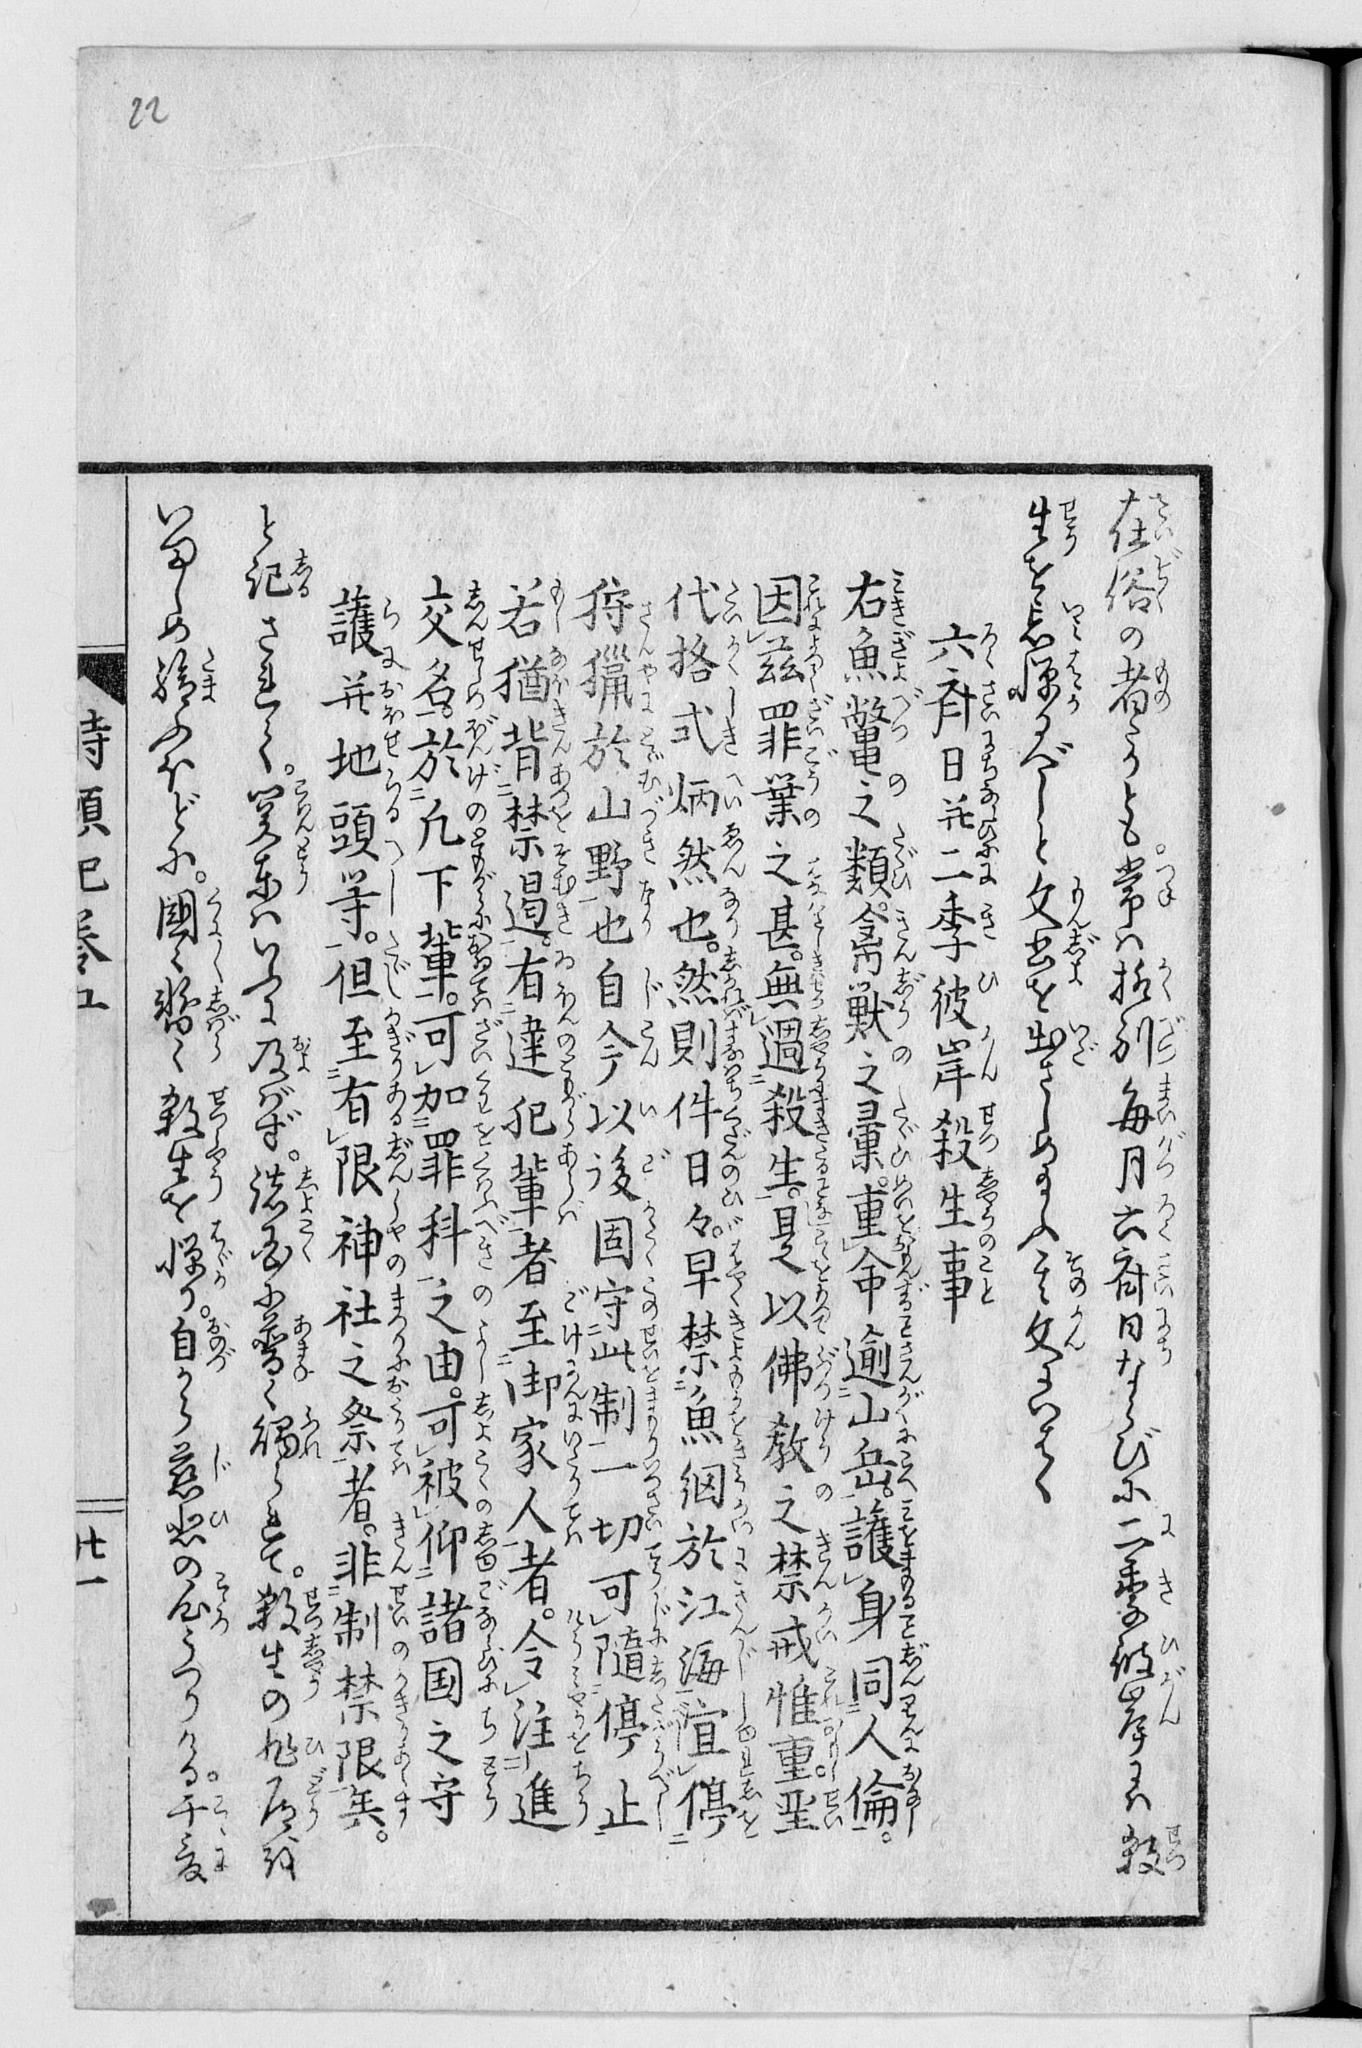MainZone-Character: (149, 974, 249, 1073), (413, 919, 499, 1012), (407, 716, 503, 798), (415, 1752, 505, 1837), (754, 744, 838, 836), (325, 583, 410, 672), (150, 884, 236, 972), (679, 1689, 765, 1776), (420, 1120, 502, 1208), (673, 1773, 768, 1847), (755, 1202, 836, 1284), (506, 1139, 584, 1225), (838, 693, 926, 767), (845, 1092, 927, 1171), (673, 1086, 755, 1165), (578, 577, 661, 655), (327, 729, 410, 807), (1107, 548, 1190, 624), (331, 1437, 407, 1521), (667, 947, 752, 1021), (675, 1448, 757, 1524), (511, 1765, 596, 1838), (844, 1496, 930, 1568), (845, 971, 927, 1045), (409, 1319, 496, 1389), (845, 1764, 924, 1840), (573, 649, 663, 716), (844, 1571, 936, 1635), (410, 1582, 503, 1645), (511, 1606, 587, 1683), (581, 723, 667, 790), (845, 825, 921, 901), (331, 1199, 407, 1275), (328, 872, 406, 947), (330, 1588, 409, 1661), (325, 1275, 404, 1348), (836, 1431, 926, 1495), (415, 1203, 500, 1270), (582, 880, 658, 954), (497, 573, 573, 647), (669, 1012, 748, 1083), (509, 1284, 579, 1364), (503, 1015, 585, 1083), (333, 1664, 417, 1730), (587, 1199, 660, 1275), (417, 635, 489, 711), (769, 1528, 841, 1606), (331, 1133, 418, 1197), (754, 694, 833, 764), (157, 1222, 236, 1291), (593, 1694, 675, 1761), (509, 1691, 591, 1758), (842, 1317, 926, 1383), (319, 673, 413, 731), (596, 1762, 667, 1838), (847, 904, 924, 974), (673, 1313, 751, 1383), (334, 1516, 413, 1585), (1113, 1817, 1193, 1884), (936, 1235, 1003, 1316), (1023, 1009, 1105, 1074), (415, 855, 505, 915), (853, 1173, 929, 1243), (1011, 643, 1088, 711), (757, 1009, 835, 1077), (844, 1641, 938, 1697), (508, 1421, 587, 1487), (412, 796, 503, 854), (417, 1009, 503, 1070), (1022, 925, 1104, 989), (748, 568, 830, 632), (755, 1337, 838, 1401), (415, 1655, 511, 1709), (669, 694, 746, 761), (588, 1387, 666, 1454), (1020, 864, 1102, 927), (505, 1357, 587, 1419), (584, 1325, 667, 1386), (508, 947, 584, 1013), (239, 545, 322, 606), (845, 1694, 923, 1759), (854, 1244, 932, 1310), (413, 1452, 499, 1512), (328, 1732, 413, 1791), (337, 1007, 418, 1070), (932, 1100, 1003, 1170), (839, 626, 921, 687), (590, 1018, 658, 1091), (509, 871, 578, 943), (417, 571, 491, 638), (418, 1516, 502, 1576), (755, 1082, 835, 1144), (669, 883, 748, 945), (763, 1667, 844, 1727), (663, 567, 743, 627), (1107, 653, 1177, 723), (679, 1240, 752, 1307), (672, 819, 748, 883), (593, 1624, 670, 1686), (667, 1583, 755, 1638), (759, 1405, 838, 1466), (672, 1386, 751, 1446), (508, 1486, 587, 1547), (1020, 492, 1084, 567), (331, 1068, 409, 1129), (322, 956, 413, 1007), (415, 1278, 499, 1334), (415, 1395, 499, 1451), (149, 1083, 237, 1136), (935, 1027, 1006, 1092), (587, 1147, 667, 1205), (150, 647, 231, 705), (1107, 483, 1181, 545), (673, 761, 751, 820), (929, 895, 997, 962), (239, 837, 310, 901), (330, 804, 403, 866), (1111, 1070, 1186, 1130), (593, 1559, 667, 1620), (500, 1086, 585, 1139), (1105, 855, 1181, 915), (768, 1785, 844, 1844), (584, 831, 661, 889), (246, 770, 312, 839), (929, 966, 1000, 1029), (337, 1392, 409, 1454), (161, 1568, 233, 1630), (676, 1633, 762, 1685), (164, 1314, 240, 1372), (246, 1164, 324, 1220), (1110, 1633, 1193, 1685), (751, 635, 825, 693), (1111, 1132, 1187, 1188), (258, 1636, 327, 1699), (754, 1284, 836, 1335), (760, 950, 831, 1009), (844, 568, 917, 626), (768, 1609, 841, 1667), (1104, 1247, 1183, 1301), (264, 1770, 327, 1837), (1111, 1307, 1184, 1363), (927, 611, 1000, 667), (760, 898, 833, 954), (1105, 1191, 1184, 1243), (932, 839, 1006, 893), (246, 1405, 322, 1459), (426, 1711, 503, 1762), (927, 1176, 1000, 1231), (930, 672, 1003, 726), (670, 632, 743, 687), (768, 1732, 847, 1782), (936, 729, 1005, 787), (673, 1525, 757, 1572), (1108, 1013, 1184, 1065), (760, 842, 831, 896), (337, 1788, 409, 1843), (935, 789, 1012, 839), (754, 1147, 831, 1197), (246, 1580, 324, 1630), (590, 1500, 663, 1553), (413, 1076, 499, 1121), (252, 1319, 316, 1380), (1012, 597, 1091, 646), (1108, 953, 1178, 1007), (588, 1275, 664, 1325), (1113, 1685, 1186, 1737), (1022, 1308, 1094, 1360), (500, 647, 573, 699), (841, 1387, 926, 1431), (1032, 1249, 1096, 1307), (503, 700, 572, 754), (245, 1035, 319, 1083), (1105, 1562, 1187, 1606), (683, 1150, 746, 1206), (161, 1147, 230, 1199), (590, 962, 661, 1010), (246, 1225, 322, 1270), (850, 1044, 923, 1091), (848, 773, 918, 820), (584, 1097, 658, 1141), (772, 1484, 839, 1533), (163, 1439, 231, 1486), (505, 744, 575, 790), (339, 1348, 409, 1392), (163, 1504, 234, 1547), (175, 1844, 237, 1893), (508, 792, 576, 834), (587, 793, 664, 830), (590, 1457, 663, 1495), (1116, 1510, 1181, 1550), (258, 1727, 325, 1764), (511, 837, 578, 872), (167, 1790, 234, 1822)
MainZone-Ruby: (801, 744, 839, 830), (462, 919, 497, 1009), (462, 711, 500, 793), (886, 1091, 923, 1174), (716, 1004, 749, 1086), (208, 989, 245, 1064), (372, 594, 409, 665), (632, 725, 670, 790), (728, 1691, 760, 1768), (470, 1123, 502, 1200), (717, 1088, 749, 1164), (553, 1144, 581, 1232), (897, 1246, 930, 1316), (886, 971, 924, 1032), (888, 825, 920, 896), (552, 1010, 584, 1080), (1061, 930, 1101, 986), (971, 1237, 1002, 1310), (476, 1582, 509, 1647), (1151, 550, 1186, 612), (464, 799, 497, 863), (293, 1768, 327, 1832), (461, 638, 489, 711), (809, 1337, 842, 1399), (807, 1199, 833, 1279), (716, 690, 745, 761), (898, 1639, 936, 1692), (892, 1493, 921, 1563), (202, 1317, 237, 1375), (892, 904, 924, 966), (467, 858, 500, 918), (803, 570, 831, 638), (886, 687, 918, 747), (728, 1437, 751, 1522), (1053, 494, 1084, 556), (379, 874, 403, 951), (289, 1165, 322, 1222), (1154, 1129, 1189, 1182), (468, 1013, 503, 1067), (897, 1762, 923, 1834), (891, 1179, 920, 1243), (388, 1583, 410, 1664), (645, 1696, 672, 1762), (561, 1604, 585, 1679), (389, 1665, 415, 1735), (468, 1389, 499, 1448), (894, 1571, 923, 1633), (461, 571, 489, 634), (1060, 872, 1091, 928), (716, 948, 748, 1004), (1066, 1013, 1099, 1067), (379, 729, 403, 802), (379, 1136, 415, 1185), (205, 1222, 231, 1290), (971, 839, 1006, 889), (892, 1433, 924, 1487), (976, 787, 1008, 842), (301, 1636, 328, 1700), (204, 1082, 236, 1136), (722, 1311, 746, 1383), (1155, 1633, 1189, 1685), (810, 1528, 836, 1595), (807, 1012, 833, 1079), (570, 1761, 596, 1828), (289, 1313, 315, 1380), (473, 1209, 502, 1269), (895, 1317, 923, 1380), (380, 1010, 412, 1064), (973, 728, 1002, 785), (883, 565, 912, 623), (550, 950, 579, 1007), (473, 1515, 502, 1572), (895, 1696, 923, 1756), (971, 1168, 1002, 1223), (886, 627, 917, 682), (631, 594, 661, 649), (1152, 1013, 1184, 1065), (724, 1240, 749, 1304), (736, 1776, 762, 1840), (555, 1287, 579, 1354), (559, 1417, 584, 1484), (379, 807, 407, 863), (806, 694, 836, 747), (801, 631, 827, 693), (210, 1568, 236, 1630), (208, 884, 226, 972), (1066, 1244, 1093, 1301), (646, 1626, 672, 1685), (565, 1694, 591, 1753), (645, 1762, 667, 1829), (812, 1402, 836, 1465), (471, 1454, 496, 1516), (386, 1199, 406, 1275), (1061, 649, 1087, 706), (556, 1489, 585, 1541), (192, 647, 222, 696), (386, 1516, 409, 1580), (380, 1284, 406, 1340), (1146, 494, 1175, 544), (725, 1583, 754, 1633), (550, 874, 575, 933), (480, 1753, 500, 1826), (377, 675, 407, 722), (809, 1079, 831, 1141), (382, 1346, 410, 1395), (641, 1559, 664, 1620), (638, 1386, 661, 1446), (638, 656, 661, 717), (717, 825, 743, 878), (803, 959, 830, 1009), (555, 1083, 582, 1133), (1149, 1305, 1174, 1361), (634, 880, 658, 936), (546, 576, 570, 632), (1155, 1686, 1184, 1734), (1163, 1819, 1186, 1878), (638, 1496, 661, 1556), (716, 883, 742, 934), (380, 953, 406, 1004), (976, 1100, 1000, 1155), (638, 1326, 663, 1381), (638, 1147, 675, 1184), (204, 1143, 228, 1197), (1152, 656, 1172, 723), (973, 899, 1002, 945), (1152, 1073, 1178, 1123), (976, 1033, 1002, 1083), (807, 1285, 833, 1335), (638, 1203, 658, 1269), (632, 1021, 660, 1068), (299, 1402, 322, 1459), (891, 1389, 927, 1424), (473, 1323, 494, 1383), (806, 899, 828, 954), (724, 1389, 746, 1443), (734, 1636, 760, 1683), (1154, 861, 1177, 915), (1060, 597, 1087, 641), (290, 1033, 318, 1077), (634, 790, 664, 830), (564, 1366, 585, 1422), (292, 773, 310, 839), (819, 1730, 842, 1782), (719, 579, 745, 624), (546, 703, 569, 755), (299, 1586, 325, 1632), (1061, 1311, 1088, 1354), (1154, 1193, 1178, 1240), (1151, 1249, 1174, 1299), (976, 675, 999, 725), (391, 1738, 413, 1788), (716, 1165, 743, 1206), (638, 963, 663, 1009), (549, 649, 572, 697), (722, 766, 743, 817), (476, 1656, 505, 1694), (818, 1668, 839, 1718), (804, 849, 827, 895), (476, 1708, 503, 1746), (1154, 959, 1177, 1003), (1155, 1563, 1178, 1607), (640, 1276, 664, 1317), (634, 831, 661, 868), (979, 620, 999, 670), (813, 1146, 833, 1196), (293, 547, 313, 597), (813, 1613, 839, 1651), (822, 1788, 844, 1834), (385, 1437, 407, 1480), (292, 839, 310, 890), (210, 1448, 236, 1484), (385, 1076, 404, 1123), (547, 790, 570, 828), (385, 1393, 407, 1431), (721, 632, 739, 679), (473, 1272, 497, 1307), (298, 1225, 321, 1261), (641, 1459, 663, 1496), (476, 1071, 494, 1114), (207, 1504, 234, 1531), (549, 755, 572, 787), (391, 1793, 410, 1829), (210, 1849, 236, 1876), (211, 1790, 233, 1822), (976, 968, 1002, 994), (1157, 1509, 1177, 1539), (552, 842, 572, 869), (640, 1095, 658, 1124), (888, 773, 911, 796), (301, 1735, 327, 1755), (889, 1045, 912, 1067), (812, 1483, 836, 1503), (734, 1547, 752, 1571)
